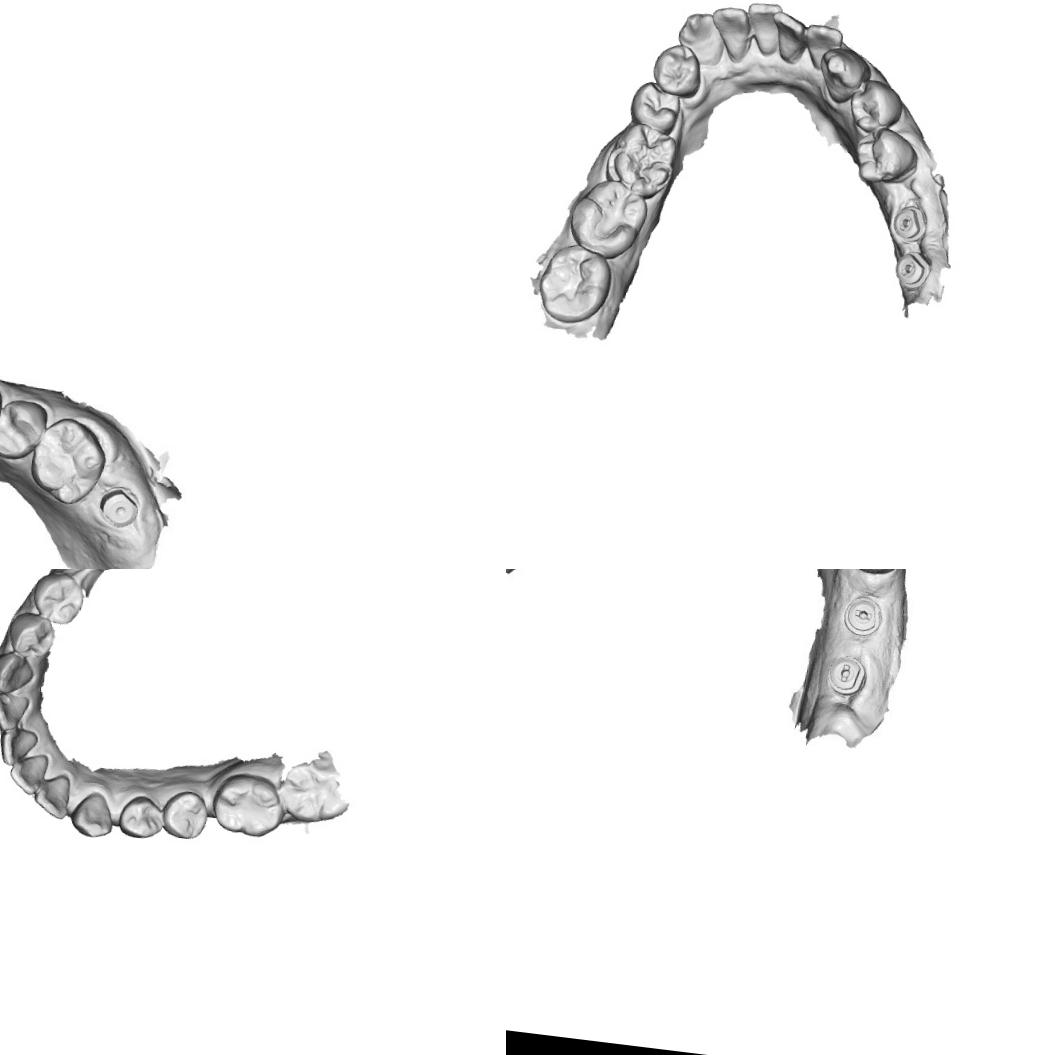canine: (813, 43, 873, 107), (648, 40, 706, 100), (673, 8, 728, 69), (66, 787, 118, 842), (0, 649, 37, 696)
implant: (98, 482, 145, 530)
implant_minus: (823, 652, 869, 697), (892, 247, 936, 292), (841, 593, 885, 638), (889, 202, 931, 244)
incisor: (706, 2, 754, 64), (766, 8, 810, 66), (800, 20, 846, 74), (741, 0, 784, 57), (30, 769, 75, 821), (5, 749, 50, 798), (0, 724, 39, 769), (0, 689, 31, 734)
molar: (25, 412, 112, 510), (563, 174, 652, 264), (534, 240, 616, 329), (600, 117, 682, 203), (207, 768, 288, 842), (277, 760, 349, 827)
premolar: (849, 122, 923, 190), (844, 76, 907, 138), (0, 394, 51, 464), (626, 76, 685, 136), (27, 569, 87, 627), (158, 786, 212, 843), (2, 608, 58, 661), (115, 792, 168, 842)
